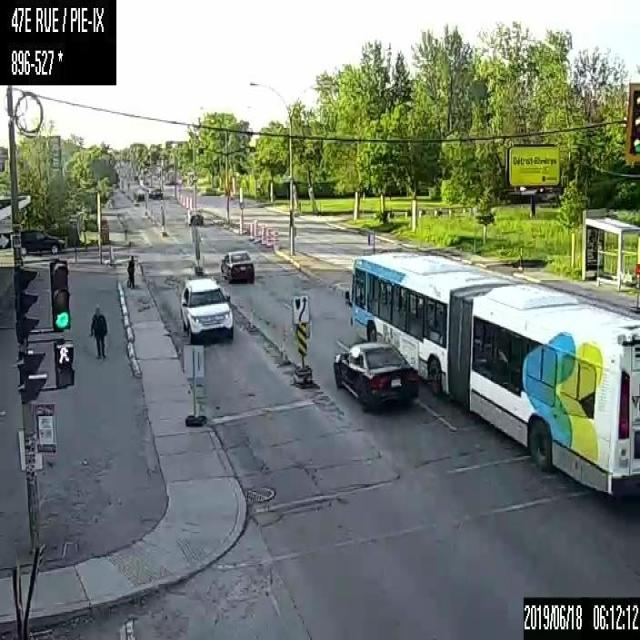bus: (346, 248, 639, 496)
construction: (631, 260, 639, 312), (260, 225, 266, 242), (265, 228, 270, 245), (254, 218, 258, 235), (272, 230, 276, 247), (189, 197, 192, 208), (186, 196, 188, 208)
pedestrian: (89, 304, 107, 359), (126, 252, 136, 288)
vehicle: (332, 339, 421, 414), (179, 275, 234, 344), (217, 248, 255, 283), (24, 227, 66, 254), (184, 207, 204, 225), (151, 186, 162, 198), (135, 188, 143, 201)
